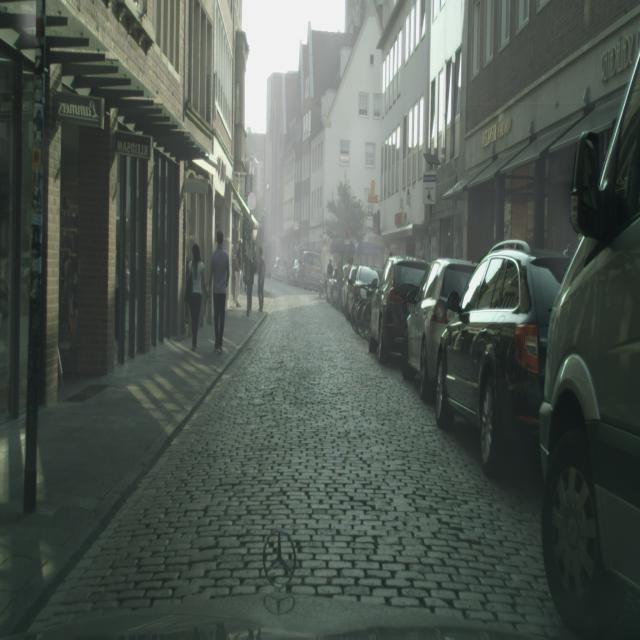person: (208, 229, 230, 353), (185, 241, 208, 352), (244, 244, 256, 316), (232, 239, 242, 306), (257, 248, 266, 312)
truck: (537, 56, 640, 627), (435, 241, 568, 474), (405, 256, 478, 401), (368, 256, 429, 363), (350, 265, 378, 329), (343, 264, 366, 323), (341, 264, 358, 319), (300, 251, 322, 289), (272, 258, 288, 281), (288, 257, 301, 284)
